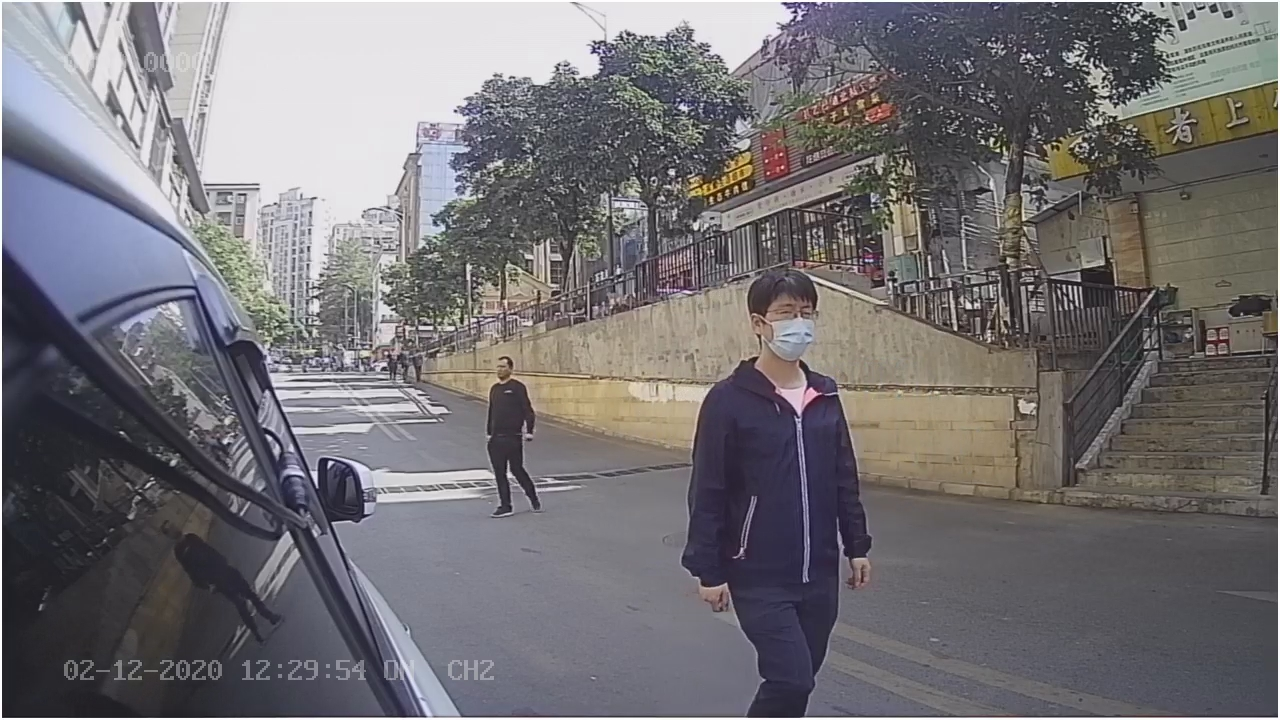person: (675, 265, 887, 614), (461, 348, 554, 529)
